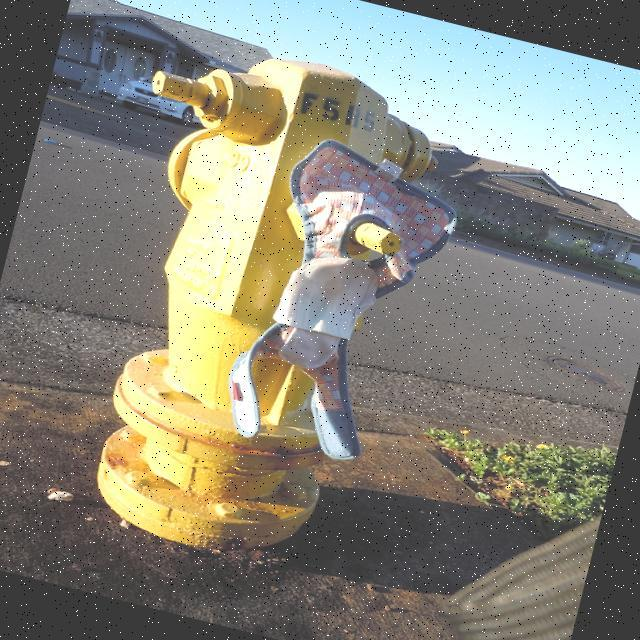fire_hydrant: (45, 22, 468, 584)
